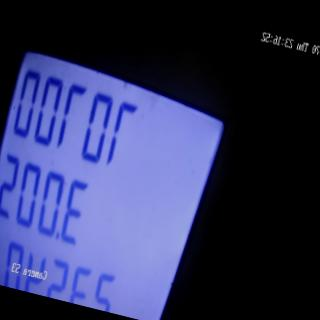screen: (0, 25, 246, 320)
